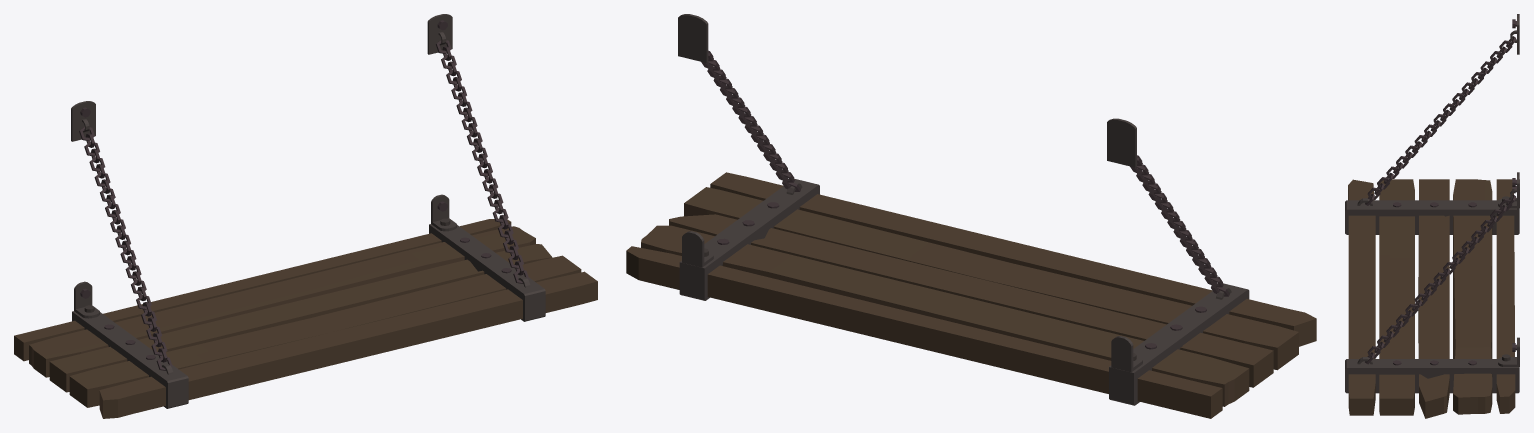
File: JailBed.fbx
3 renders of one model, left to right at view 1: azimuth 30°, elevation 25°; view 2: azimuth 150°, elevation 25°; view 3: azimuth 270°, elevation 25°, orthographic. The views are drawn at different scales.
Visible parts, largest first — view 1: Circle.004; view 2: Circle.004; view 3: Circle.004.
Boxes of the visible parts, x1,y1,x2,y2 form: Circle.004: (14, 14, 597, 418); Circle.004: (626, 14, 1316, 418); Circle.004: (1345, 14, 1519, 418).
Size of the model in its own units: 196 by 90.33 by 65.98.
